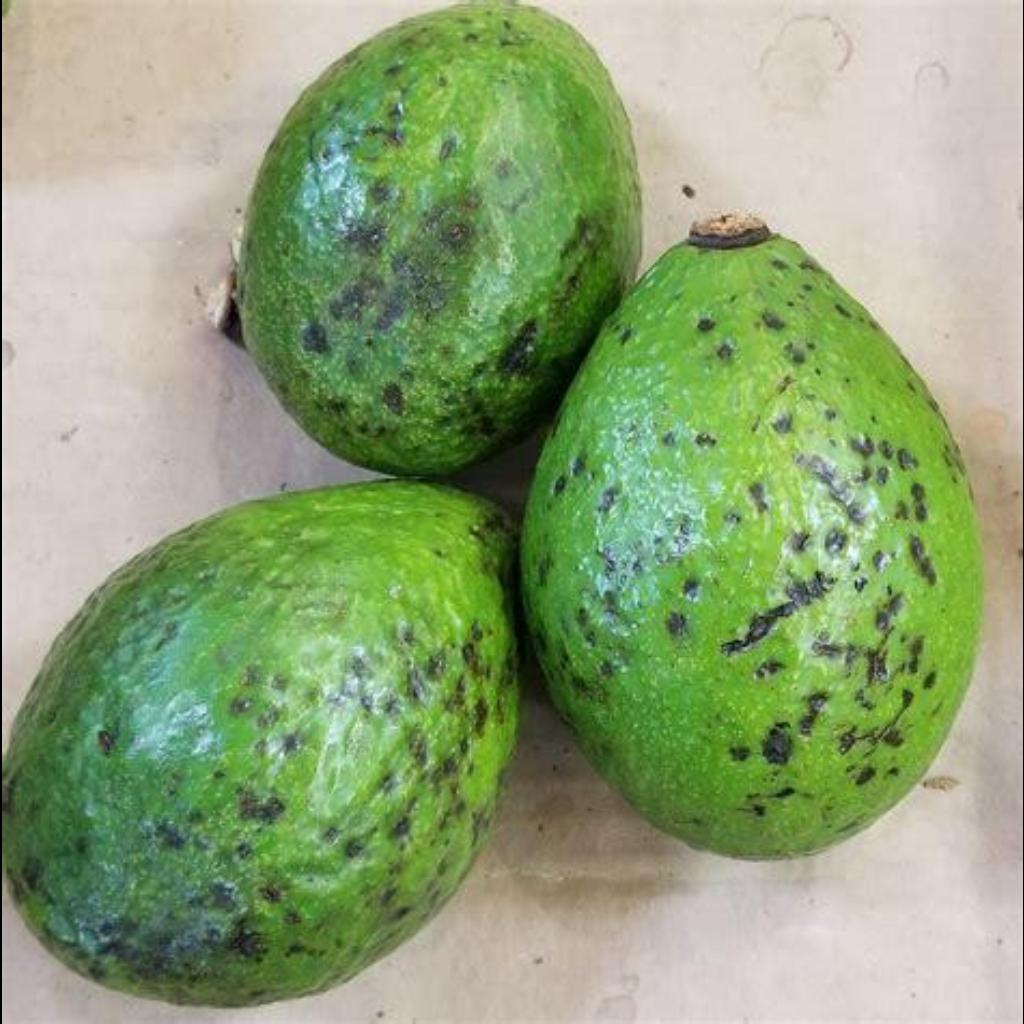Anthracnose: (184, 17, 968, 843)
